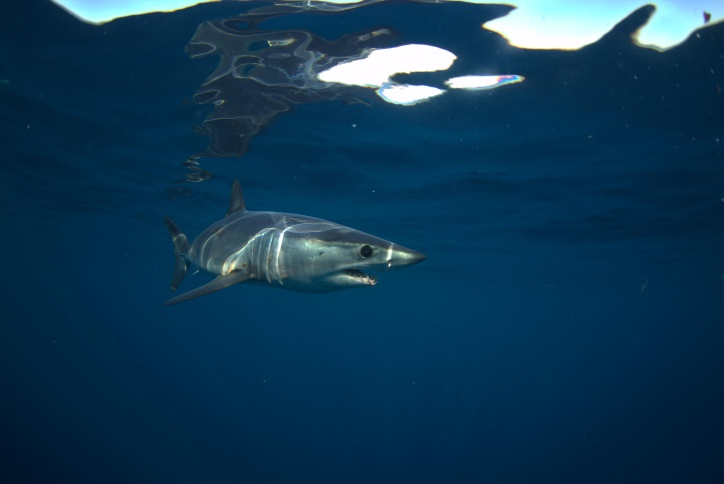Mako: (149, 177, 437, 314)
